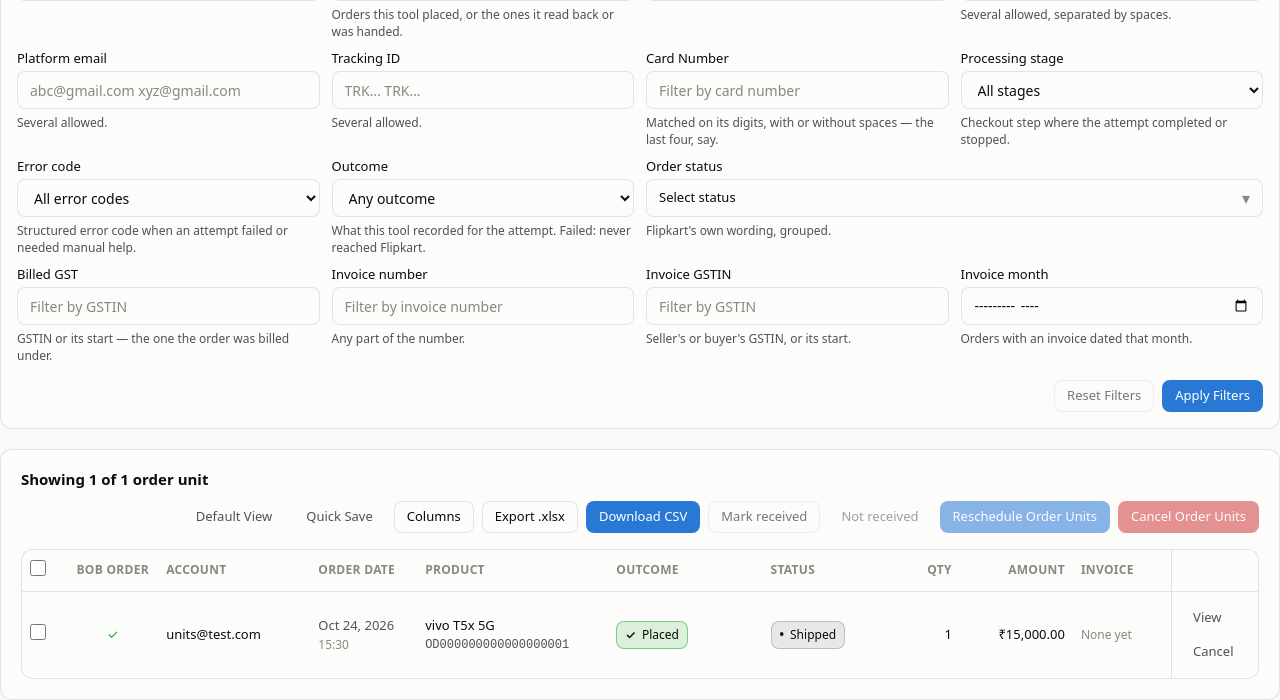
a failed export › says Export failed with the server's text when the workbook is refused
This screenshot has width=1280, height=700.
(page scrolled)
Click the button "Export .xlsx": [530, 517] box [482, 501, 578, 533]
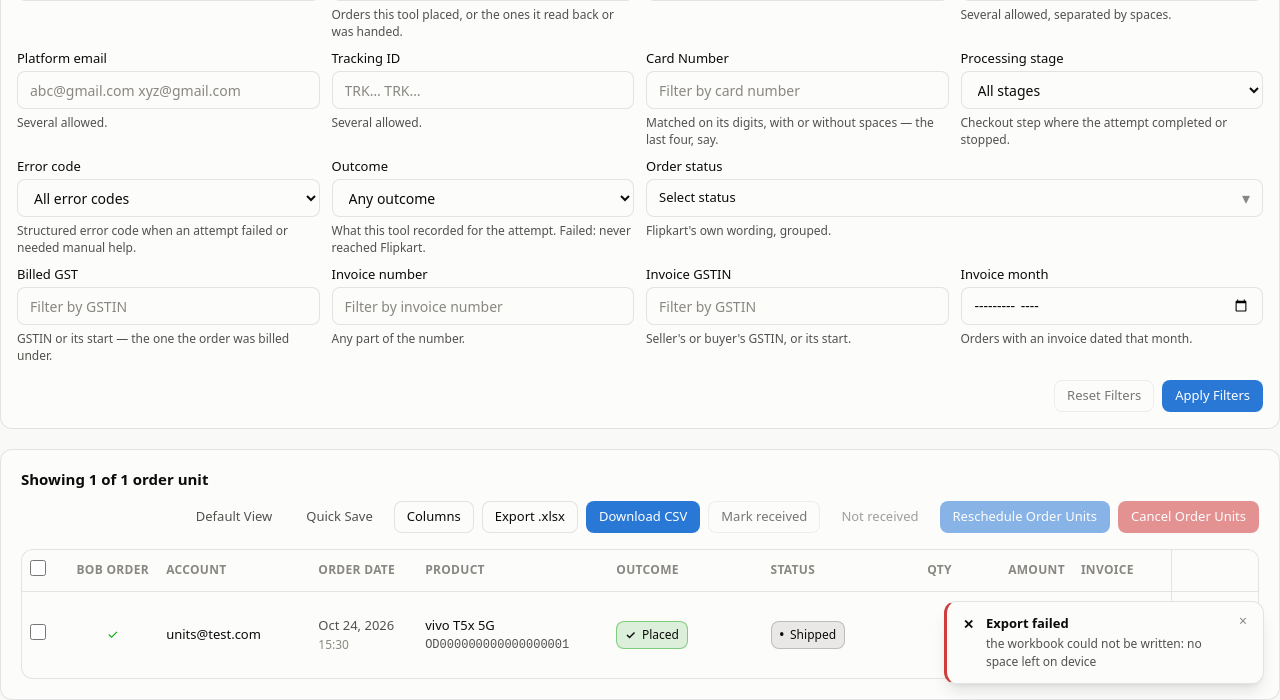
Now the message shows "Export failed", box [986, 614, 1069, 632]
Now the message shows "the workbook could not be written: no space left on device", box [986, 635, 1202, 670]
